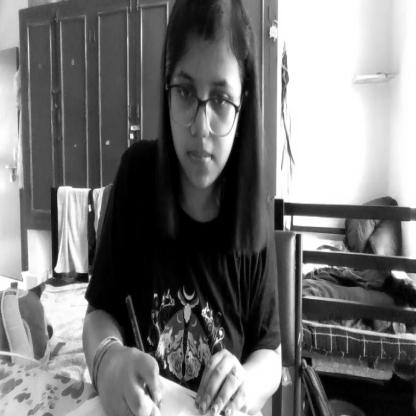Normal: (164, 2, 249, 184)
